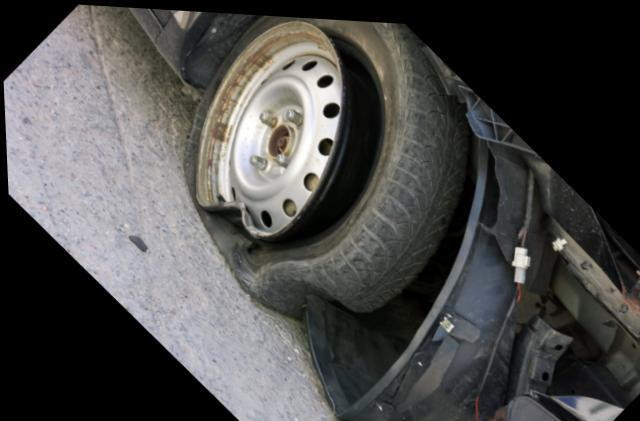no part: (341, 77, 640, 421)
tire flat: (178, 12, 470, 315)
